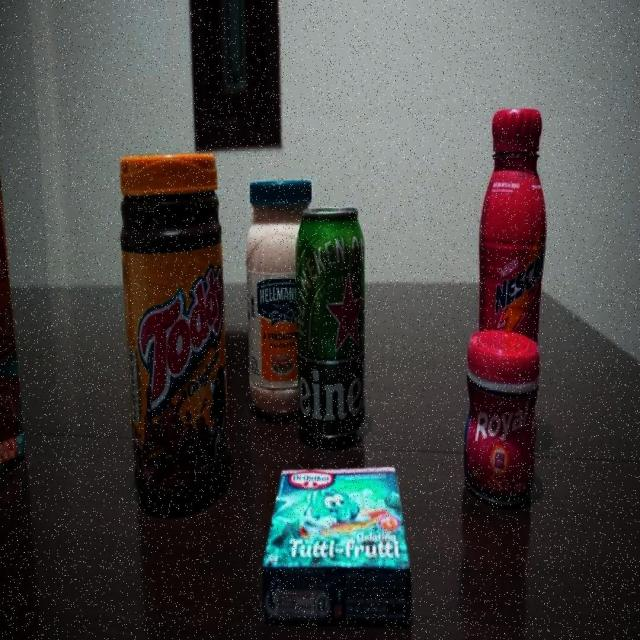BeerCan: (294, 204, 368, 447)
ChocolateMilk: (477, 108, 550, 336)
ChocolatePowder: (119, 150, 234, 515)
Cracker: (0, 115, 28, 491)
Gelatine: (262, 468, 415, 624)
Mayonnaise: (244, 177, 315, 422)
Yeast: (462, 323, 542, 510)
